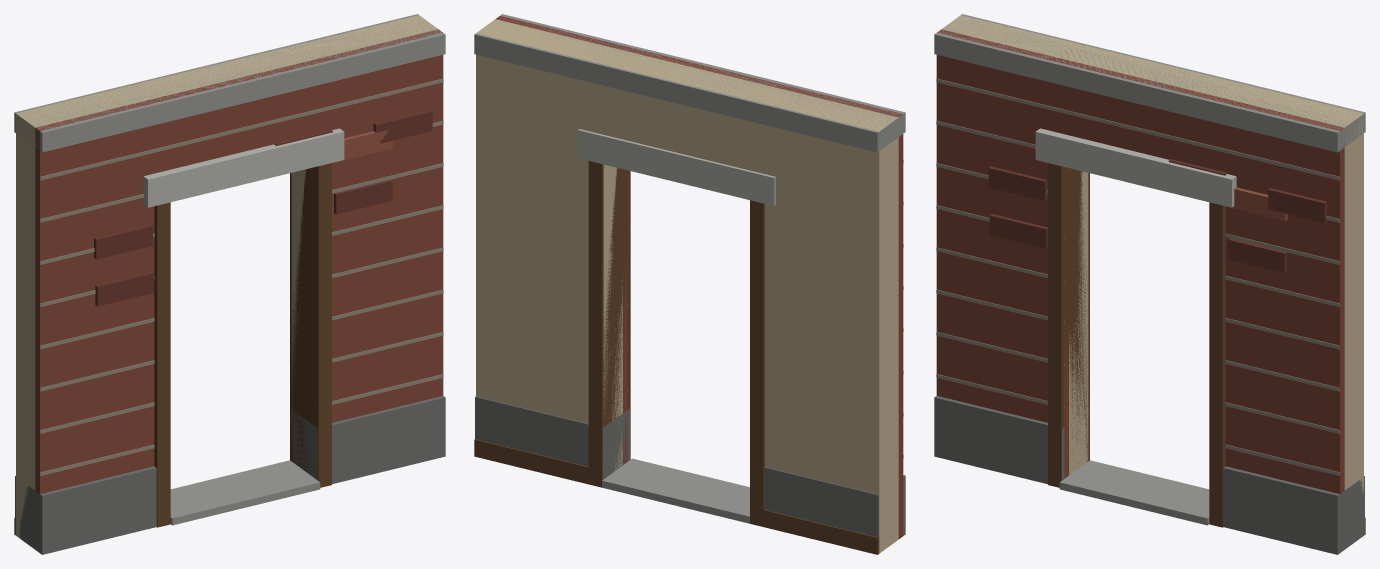
The model's file is SM_Bld_Wall_Brick_Door_01.glb.
3 renders of one model, left to right at view 1: azimuth 30°, elevation 25°; view 2: azimuth 150°, elevation 25°; view 3: azimuth 330°, elevation 25°, orthographic.
Visible parts, largest first — view 1: SM_Bld_Wall_Brick_Door_01; view 2: SM_Bld_Wall_Brick_Door_01; view 3: SM_Bld_Wall_Brick_Door_01.
Boxes of the visible parts, x1,y1,x2,y2 form: SM_Bld_Wall_Brick_Door_01: (14,14,445,554); SM_Bld_Wall_Brick_Door_01: (474,14,905,554); SM_Bld_Wall_Brick_Door_01: (934,14,1365,554).
Bounding box in the file's own units: 3 × 3 × 0.39.
Materials: 1 (1 with a texture image).
